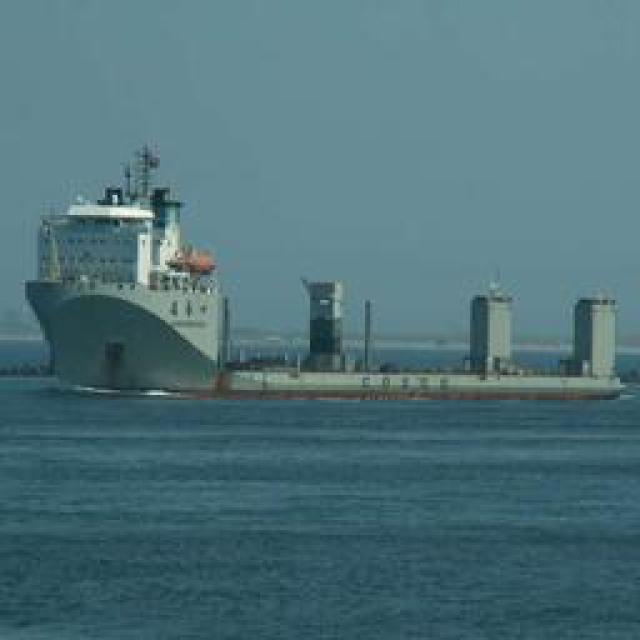Ship: (26, 141, 626, 412)
